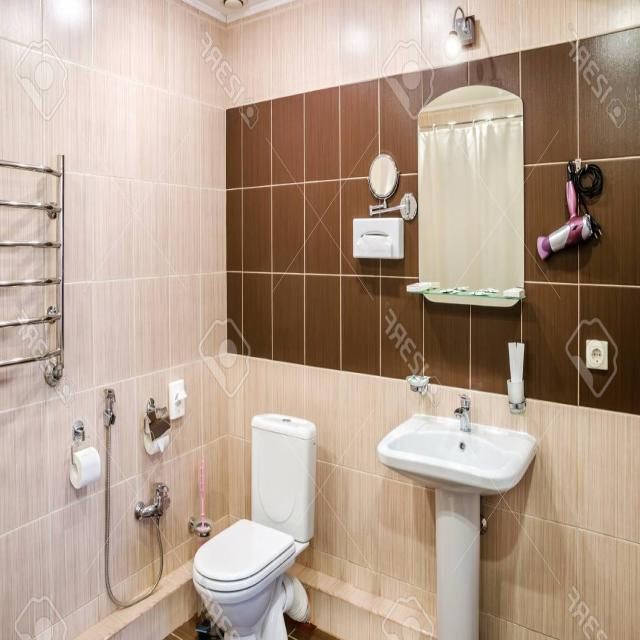dryer: (533, 159, 605, 273)
